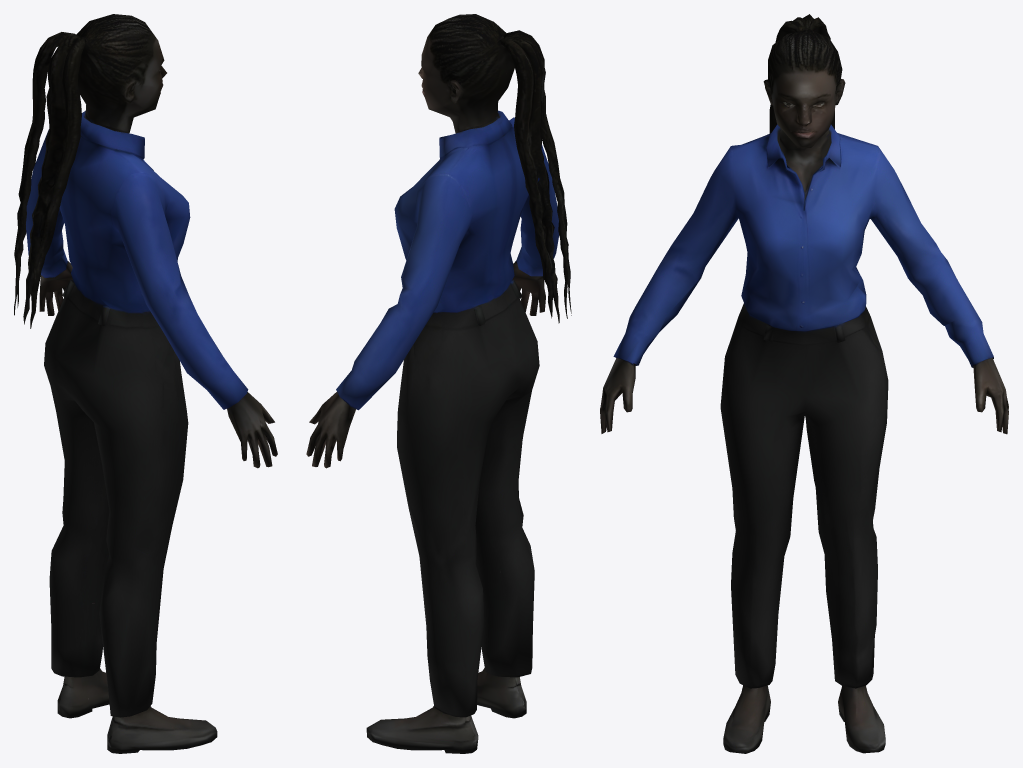
File: femme_ville.glb
3 views of the same model, side by side, from view 1: azimuth 30°, elevation 25°; view 2: azimuth 150°, elevation 25°; view 3: azimuth 270°, elevation 25° (orthographic). The views are drawn at different scales.
Parts seen in each view (by area): view 1: tripo_node_5c9a158f-7730-4315-b454-19f28882acde; view 2: tripo_node_5c9a158f-7730-4315-b454-19f28882acde; view 3: tripo_node_5c9a158f-7730-4315-b454-19f28882acde.
Part boxes in pixels (x1=…): tripo_node_5c9a158f-7730-4315-b454-19f28882acde: x1=14, y1=14, x2=277, y2=753; tripo_node_5c9a158f-7730-4315-b454-19f28882acde: x1=306, y1=14, x2=571, y2=753; tripo_node_5c9a158f-7730-4315-b454-19f28882acde: x1=600, y1=14, x2=1008, y2=753.
Bounding box in the file's own units: 0.2441 × 0.998 × 0.5371.
Materials: 1 (1 with a texture image).
